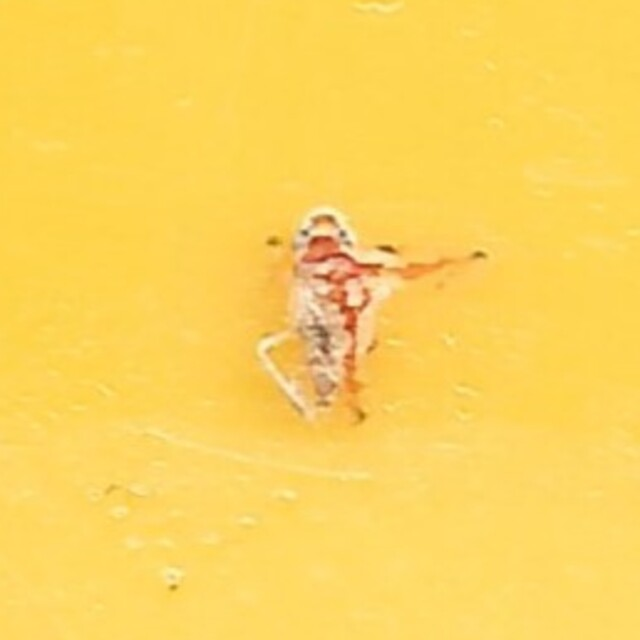Hemiptera: (248, 213, 392, 427)
